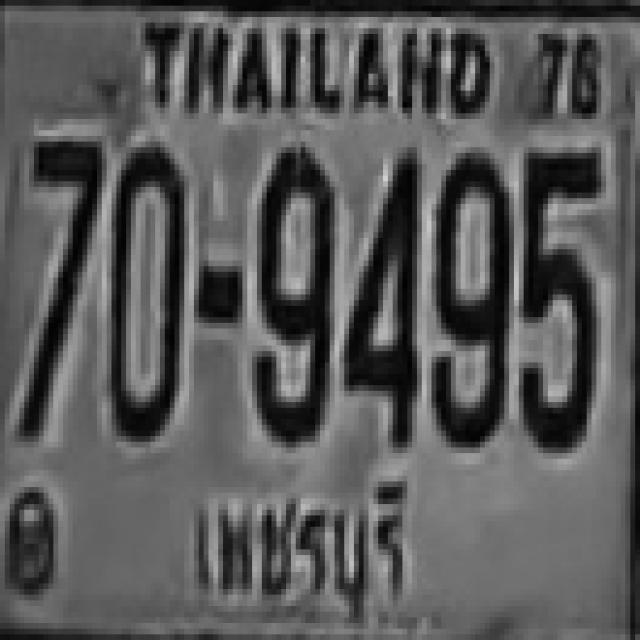0: (259, 142, 337, 328), (432, 150, 509, 331)
4: (342, 147, 419, 442)
5: (521, 147, 604, 317)
7: (32, 139, 104, 314), (29, 139, 102, 297)
9: (252, 173, 335, 439), (252, 204, 335, 442), (429, 232, 507, 442)
Phetchaburi: (175, 472, 426, 630)
